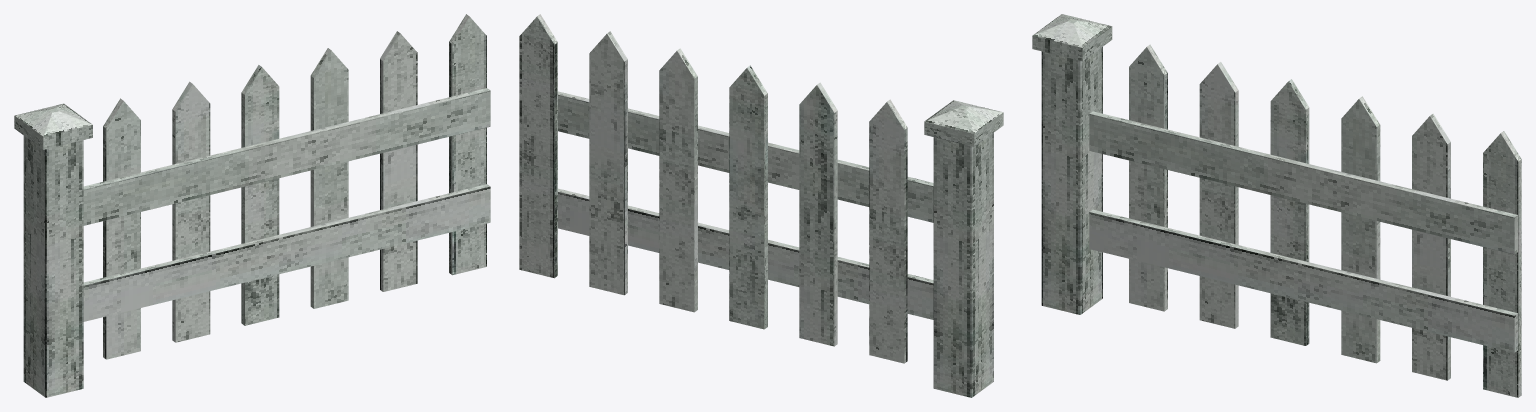
File: white_picket_fence_closed_right.glb
3 renders of one model, left to right at view 1: azimuth 30°, elevation 25°; view 2: azimuth 150°, elevation 25°; view 3: azimuth 330°, elevation 25°, orthographic. The views are drawn at different scales.
Parts seen in each view (by area): view 1: white_picket_fence_closed_right; view 2: white_picket_fence_closed_right; view 3: white_picket_fence_closed_right.
Part boxes in pixels (x1,y1,x2,y2): white_picket_fence_closed_right: [14, 14, 490, 397]; white_picket_fence_closed_right: [519, 14, 1003, 397]; white_picket_fence_closed_right: [1032, 14, 1521, 397].
Bounding box in the file's own units: 2.39 × 1.37 × 0.2613.
Materials: 1 (1 with a texture image).
